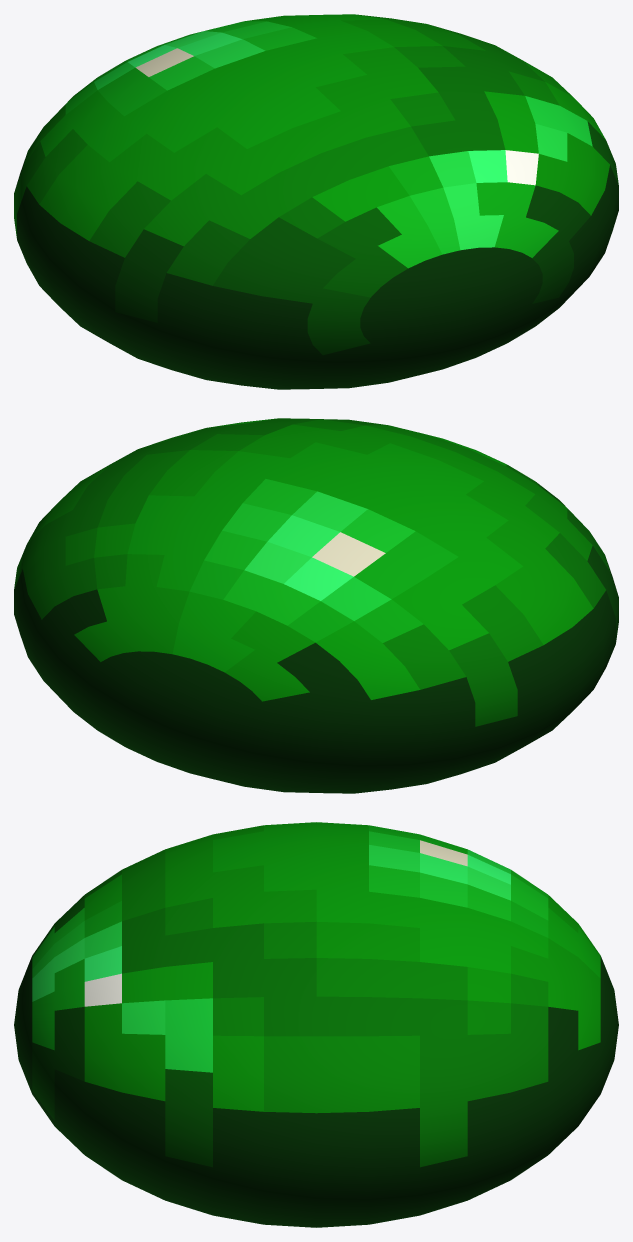
Rendered from newshh-89.glb.
3 renders of one model, top to bottom at view 1: azimuth 30°, elevation 25°; view 2: azimuth 150°, elevation 25°; view 3: azimuth 270°, elevation 25°, orthographic. The views are drawn at different scales.
Parts seen in each view (by area): view 1: newshh-89; view 2: newshh-89; view 3: newshh-89.
Part boxes in pixels (left/top/right/bottom): newshh-89: left=14, top=14, right=618, bottom=389; newshh-89: left=14, top=418, right=618, bottom=793; newshh-89: left=14, top=822, right=618, bottom=1227.
Size of the model in its own units: 1.18 by 0.5971 by 1.1.
